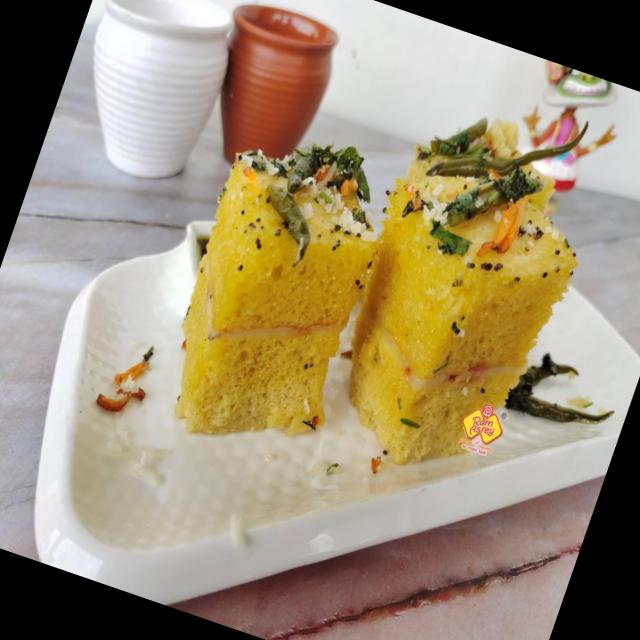dhokla: (150, 86, 420, 459), (330, 120, 594, 491)
